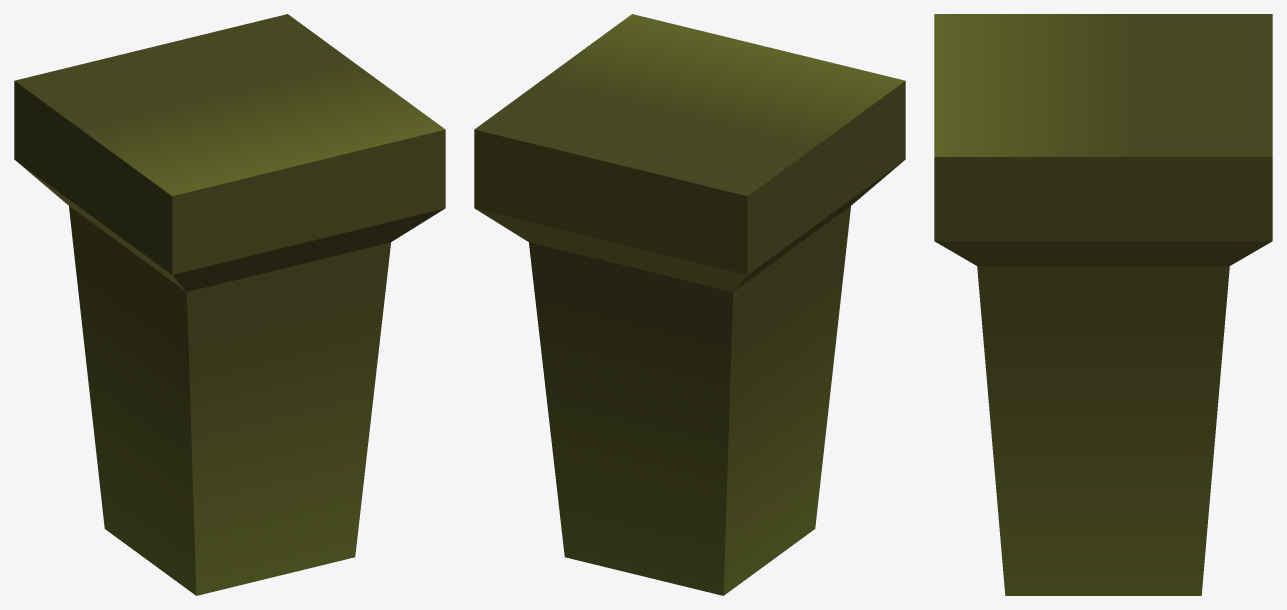
The model's file is Pedistal.fbx.
3 renders of one model, left to right at view 1: azimuth 30°, elevation 25°; view 2: azimuth 150°, elevation 25°; view 3: azimuth 270°, elevation 25°, orthographic. The views are drawn at different scales.
Visible parts, largest first — view 1: pCube1; view 2: pCube1; view 3: pCube1.
Boxes of the visible parts, x1,y1,x2,y2 form: pCube1: (14, 14, 445, 595); pCube1: (474, 14, 905, 595); pCube1: (934, 14, 1272, 595).
Size of the model in its own units: 1.83 by 2.8 by 1.83.
